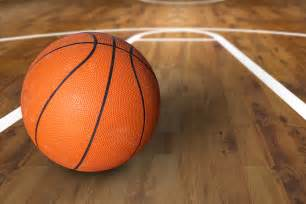basketball: (18, 32, 164, 175)
